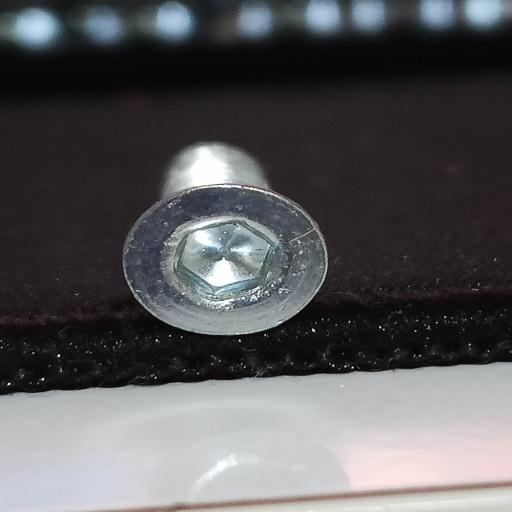Hex-Allen: (108, 168, 338, 345)
